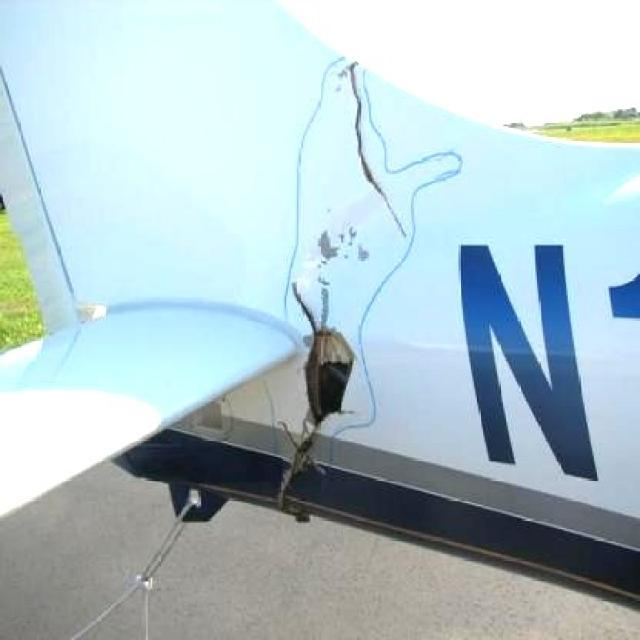crack: (342, 76, 395, 241)
